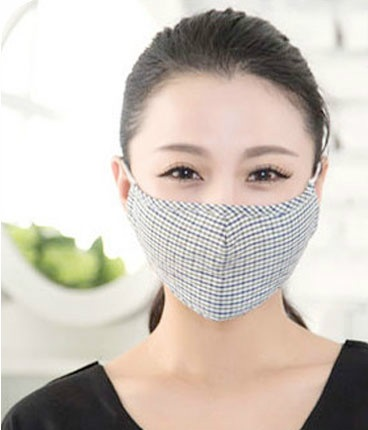face_mask: (135, 73, 312, 328)
